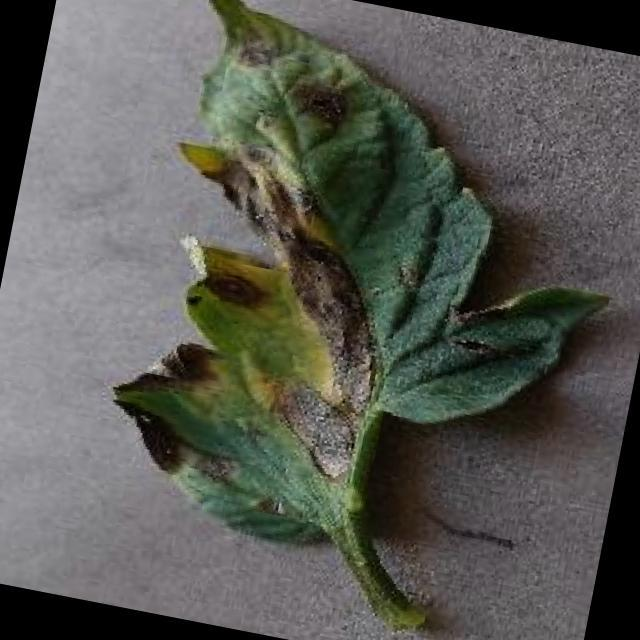Tomato Early blight leaf: (92, 0, 640, 592)
